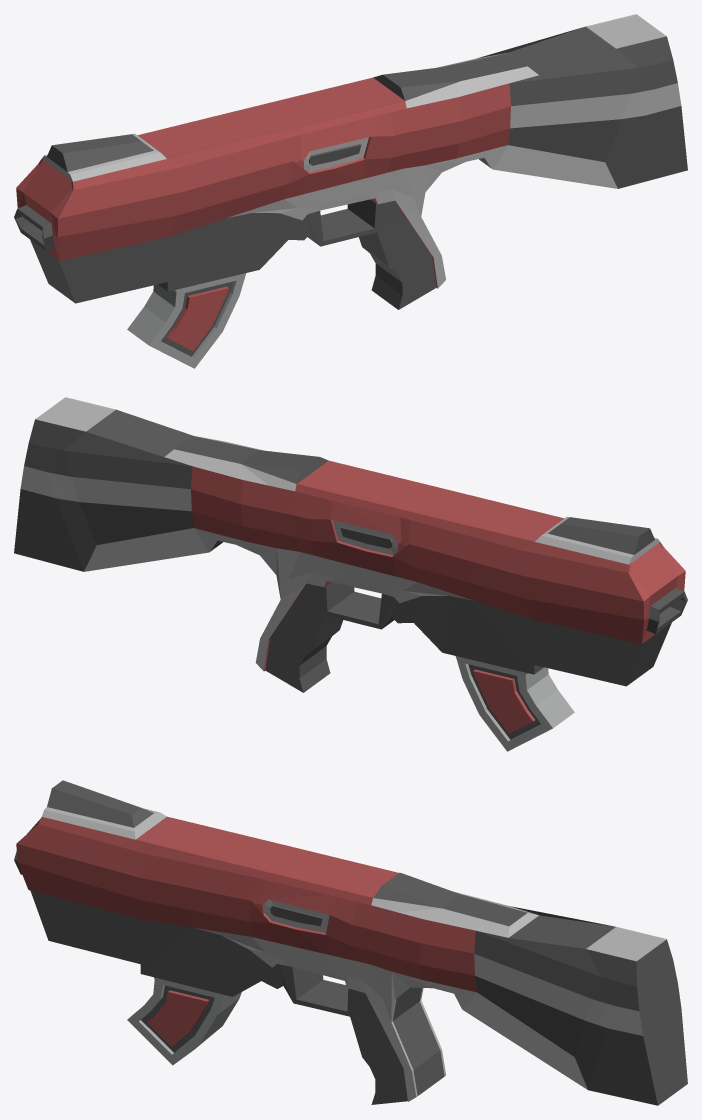
3 views of the same model, one above another, from view 1: azimuth 30°, elevation 25°; view 2: azimuth 150°, elevation 25°; view 3: azimuth 330°, elevation 25° (orthographic).
Visible parts, largest first — view 1: Cube; view 2: Cube; view 3: Cube.
Boxes of the visible parts, x1,y1,x2,y2 form: Cube: [14, 14, 687, 368]; Cube: [14, 397, 687, 751]; Cube: [14, 780, 687, 1105].
Size of the model in its own units: 406 by 146 by 45.81.
